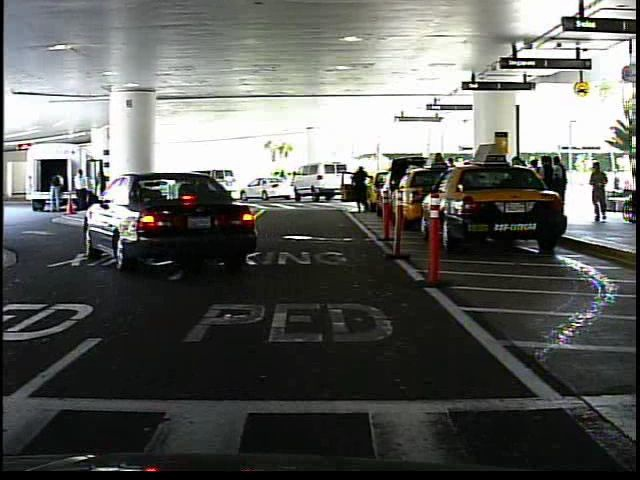person: (593, 162, 614, 227), (351, 165, 375, 218), (278, 168, 288, 178)
